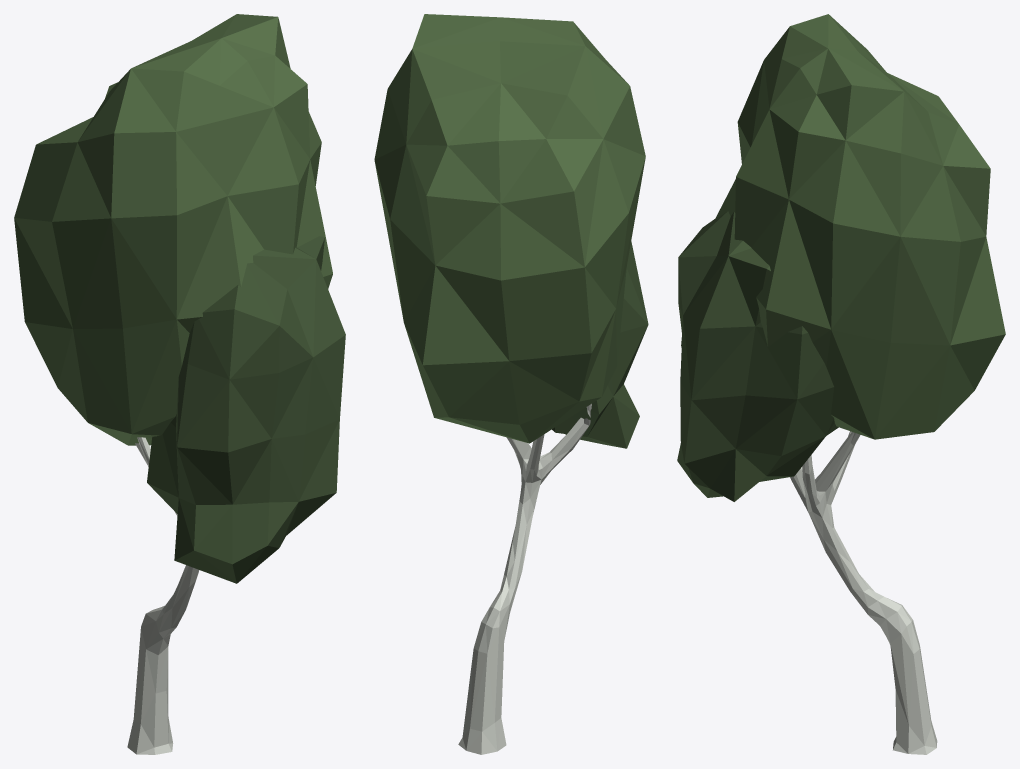
File: BirchTree_2.lod1.glb
The picture shows the model from 3 angles, left to right: view 1: azimuth 30°, elevation 25°; view 2: azimuth 150°, elevation 25°; view 3: azimuth 270°, elevation 25°; orthographic projection. The views are drawn at different scales.
Parts seen in each view (by area): view 1: BirchTree_2; view 2: BirchTree_2; view 3: BirchTree_2.
Boxes of the visible parts, x1,y1,x2,y2 form: BirchTree_2: (14, 14, 345, 754); BirchTree_2: (374, 14, 648, 754); BirchTree_2: (677, 14, 1005, 754).
Size of the model in its own units: 1.47 by 4.03 by 1.69.
